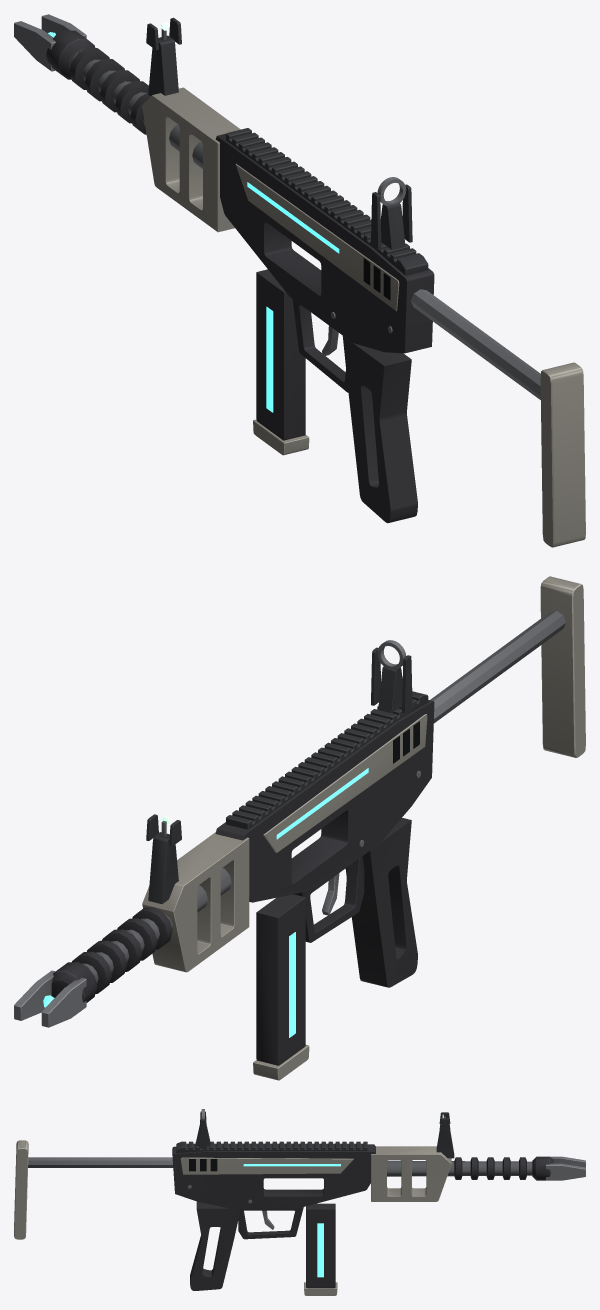
The model's file is e_smg2.glb.
3 views of the same model, one above another, from view 1: azimuth 30°, elevation 25°; view 2: azimuth 150°, elevation 25°; view 3: azimuth 270°, elevation 25° (orthographic). The views are drawn at different scales.
Visible parts, largest first — view 1: Body, ThirdPersonOnly, Cell, IronSight; view 2: Body, ThirdPersonOnly, Cell, IronSight; view 3: Body, ThirdPersonOnly, Cell, IronSight.
Part boxes in pixels (x1,y1,x2,y2): Body: (14, 14, 434, 523); ThirdPersonOnly: (411, 289, 585, 547); Cell: (253, 269, 309, 455); IronSight: (146, 17, 412, 250); Body: (14, 691, 434, 1027); ThirdPersonOnly: (430, 576, 585, 757); Cell: (253, 894, 309, 1080); IronSight: (146, 640, 412, 903); Body: (172, 1141, 585, 1290); ThirdPersonOnly: (14, 1140, 173, 1239); Cell: (304, 1203, 337, 1295); IronSight: (196, 1109, 454, 1158).
Bounding box in the file's own units: 0.0357 × 0.3008 × 0.8518.
